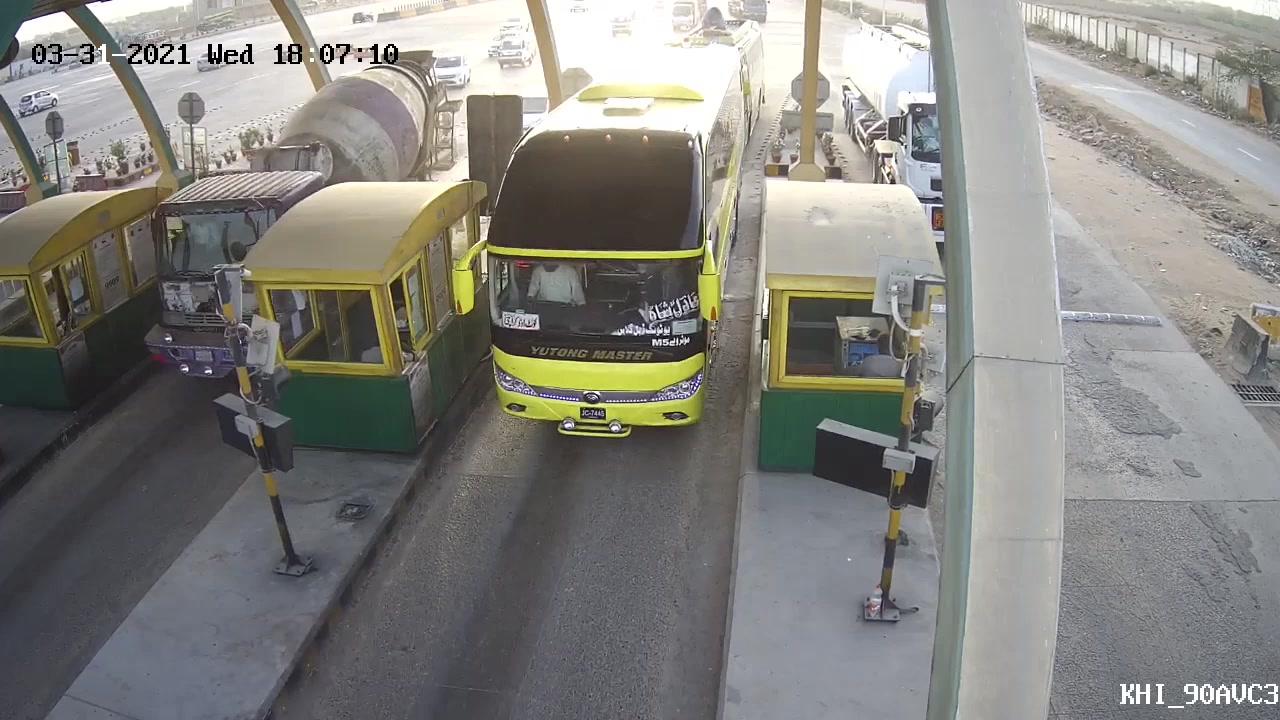F4: (445, 54, 755, 441)
